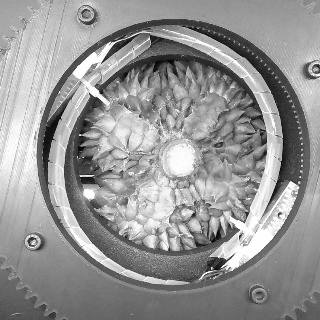base: (153, 130, 201, 189)
end: (167, 143, 196, 177)
